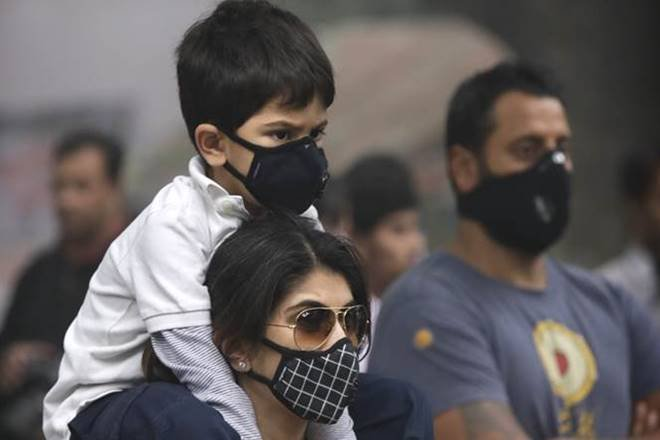mask: (165, 5, 361, 218), (203, 218, 393, 422), (430, 69, 607, 262)
